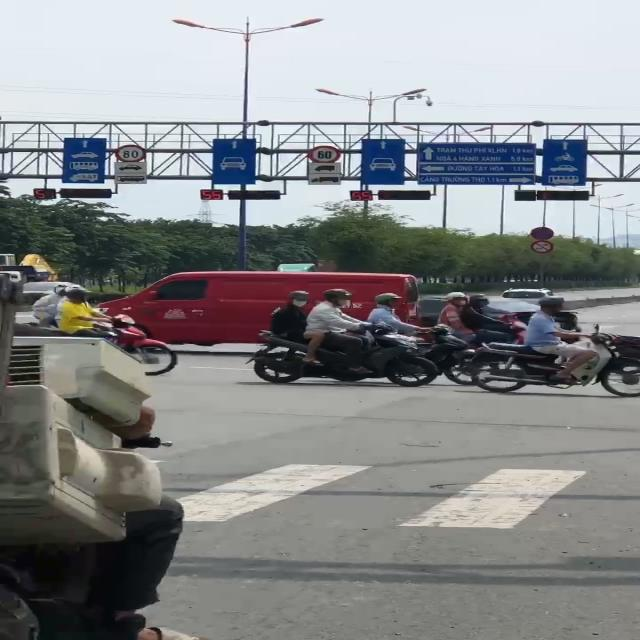Bien bao toc do toi da cho phep: (305, 146, 346, 166), (114, 143, 151, 163)
